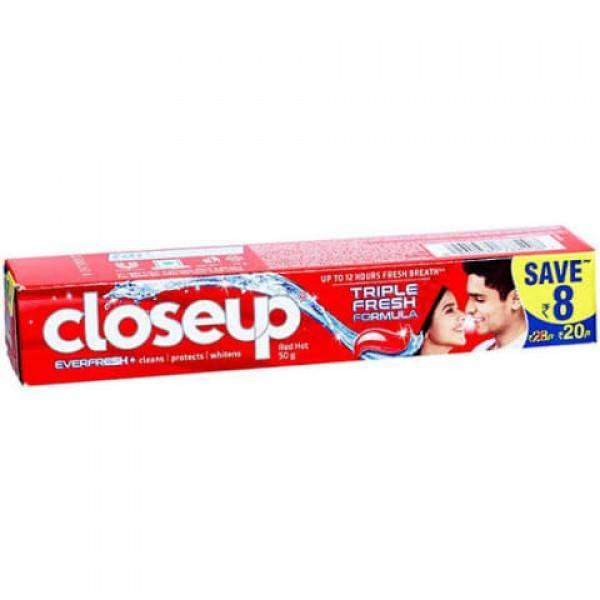CloseUp: (1, 227, 598, 383)
